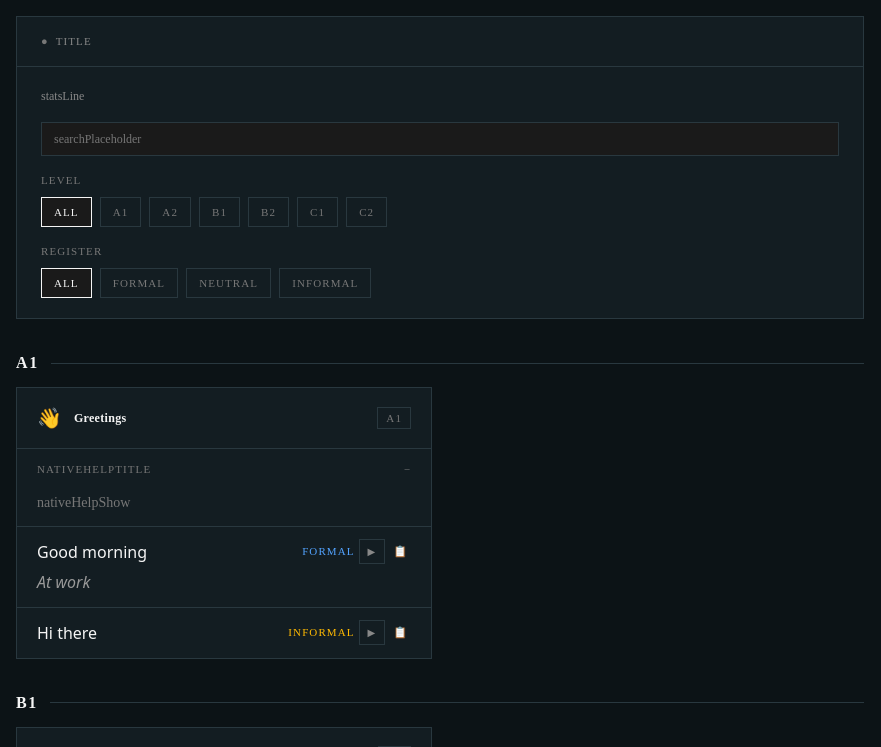
Test: PhrasebookPage › applies level, register, and search together, then clears all filters
Expected: the text "Greetings" is shown, [74,411,126,425]
Step 1. Click the button "B1" → (220, 212), box [199,196,240,227]
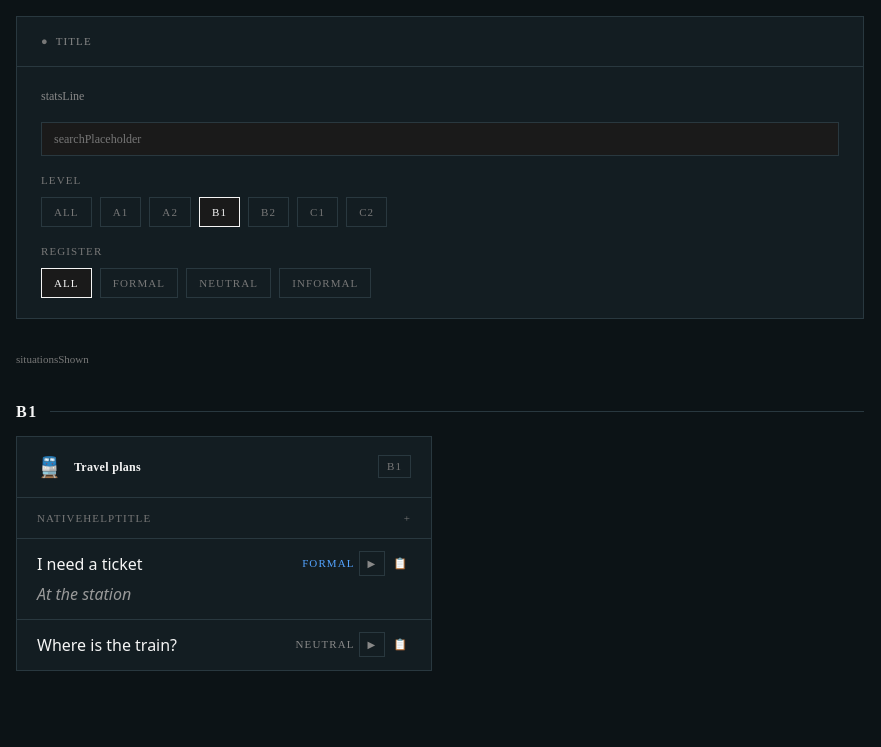
Step 2. Click the button "formal" → (139, 283), box [100,268,178,298]
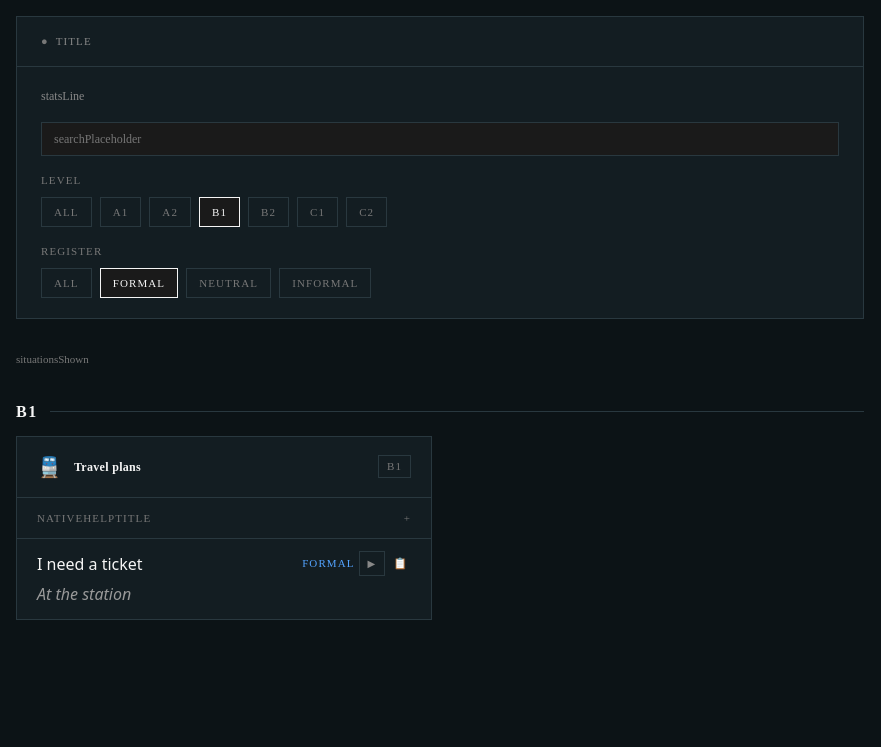
Step 3. Type "ticket" into the field with placeholder "searchPlaceholder" → (440, 139), box [41,122,839,156]
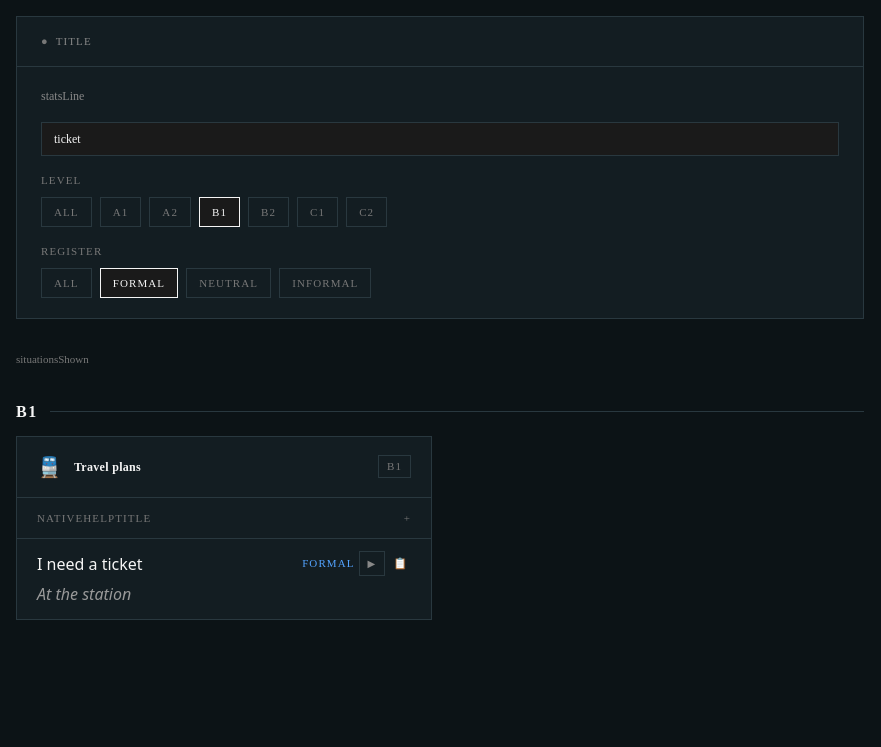
Expected: the text "Travel plans" is shown, [74,460,141,474]
Expected: the text "I need a ticket" is shown, [37,553,143,575]
Step 4. Replace the text in the field with placeholder "searchPlaceholder" with "not a phrase" → (440, 139), box [41,122,839,156]
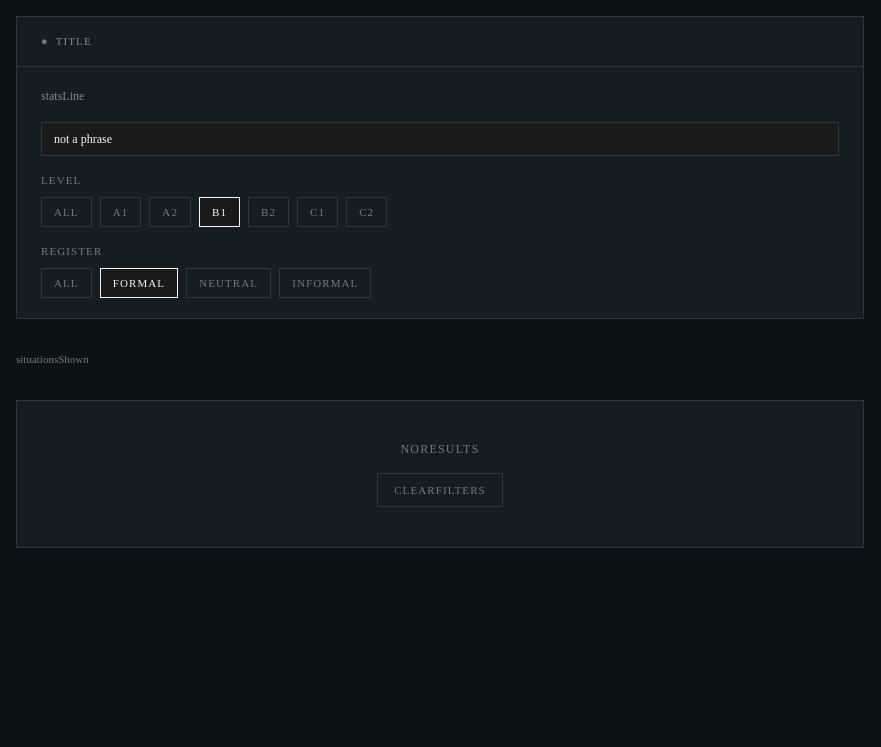
Step 5. Click the button "clearFilters" → (440, 490), box [377,472,503,507]
(page scrolled)
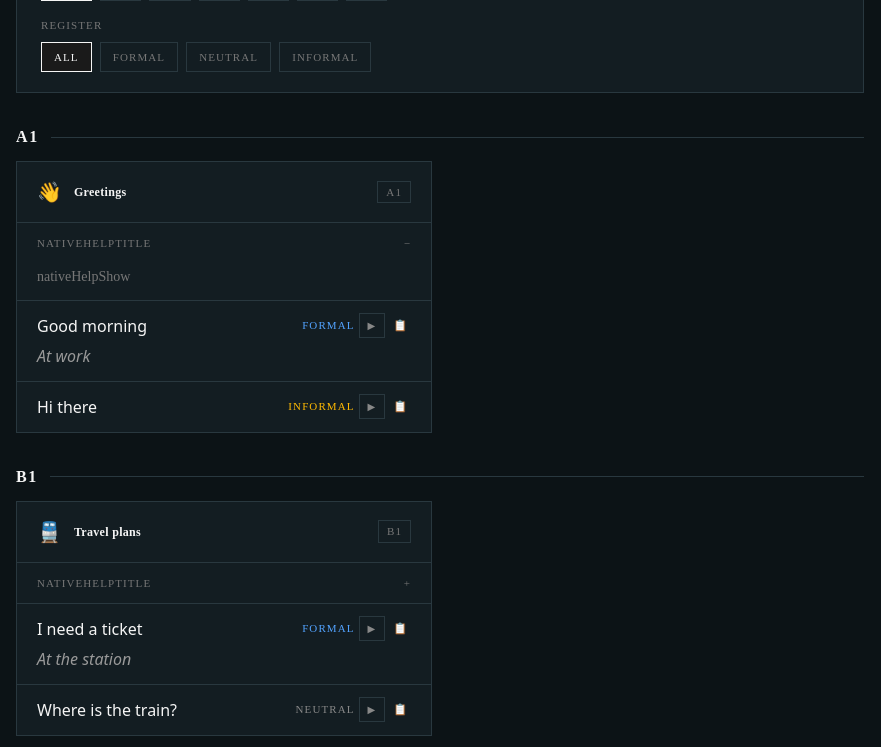
Now the text "Greetings" is shown, box [74,185,126,199]
Now the text "Travel plans" is shown, box [74,524,141,538]
Now the text "Where is the train?" is shown, box [37,699,177,721]
